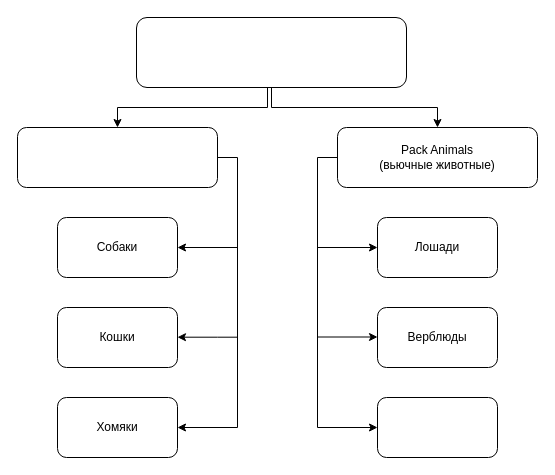
This 555x475 diagram has some shape labels left out. The centre of each missing label's shape, as x and y in pixels:
"Pets (домашние животные)" goes at point 117,157.
"Друзья человека (родительский класс)" goes at point 271,52.
"Ослы" goes at point 437,427.
